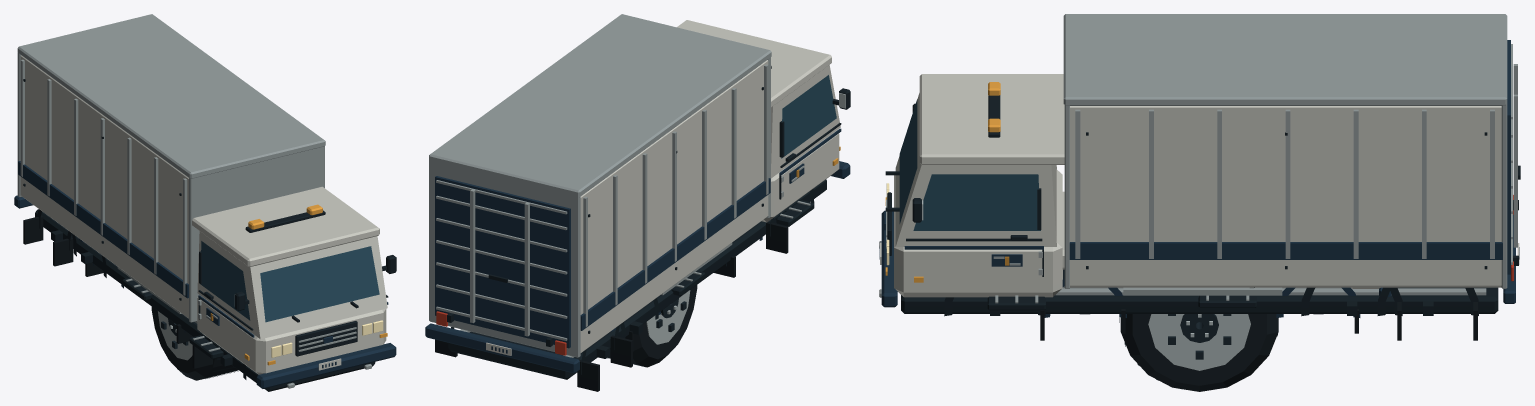
The model's file is spaceport-service-vehicles.glb.
3 renders of one model, left to right at view 1: azimuth 30°, elevation 25°; view 2: azimuth 150°, elevation 25°; view 3: azimuth 270°, elevation 25°, orthographic. The views are drawn at different scales.
Visible parts, largest first — view 1: truck_body, truck_glass, shared_wheel, pickup_body, truck_lamp, truck_beacon; view 2: truck_body, shared_wheel, truck_glass, pickup_body; view 3: truck_body, shared_wheel, truck_glass, pickup_body.
Part boxes in pixels (x1,y1,x2,y2): truck_body: (14,14,396,391); truck_glass: (201,241,379,322); shared_wheel: (151,307,238,380); pickup_body: (78,238,192,343); truck_lamp: (271,320,383,357); truck_beacon: (244,204,387,365); truck_body: (425,14,850,391); shared_wheel: (607,285,697,367); truck_glass: (781,75,845,158); pickup_body: (611,221,762,351); truck_body: (879,14,1520,340); shared_wheel: (1119,314,1278,391); truck_glass: (899,99,1040,230); pickup_body: (1044,191,1391,333).
Bounding box in the file's own units: 2.93 × 4.46 × 8.
